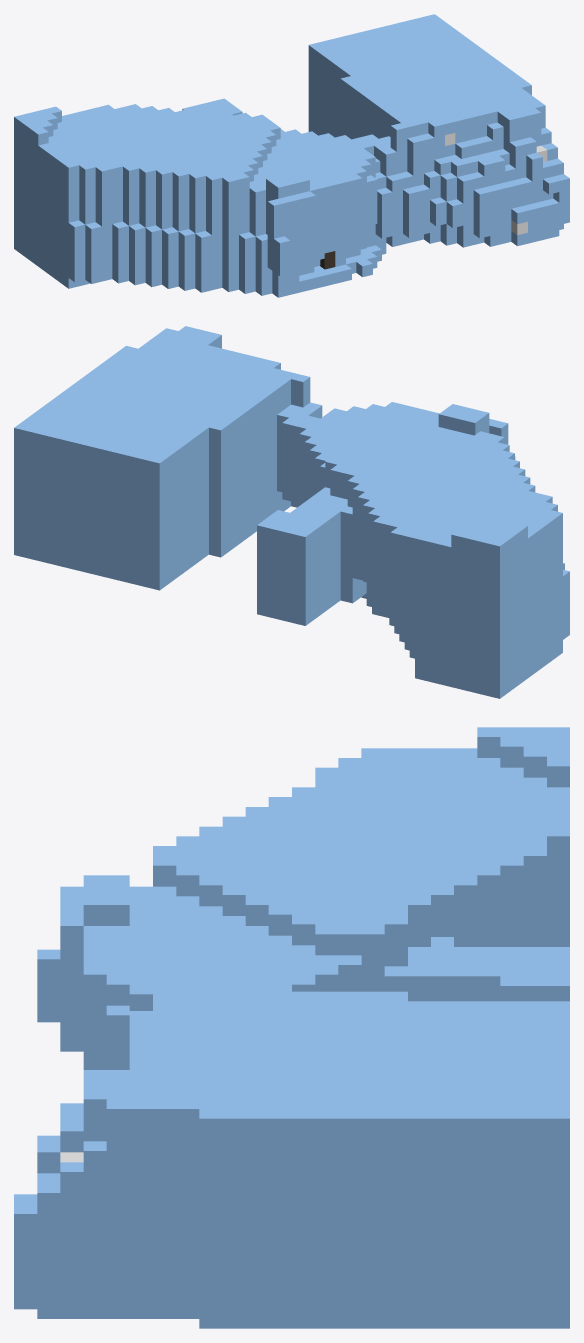
The model's file is snow12.obj.
3 renders of one model, top to bottom at view 1: azimuth 30°, elevation 25°; view 2: azimuth 150°, elevation 25°; view 3: azimuth 270°, elevation 25°, orthographic. The views are drawn at different scales.
Bounding box in the file's own units: 4 × 1.2 × 2.4.
Materials: 1 (1 with a texture image).
